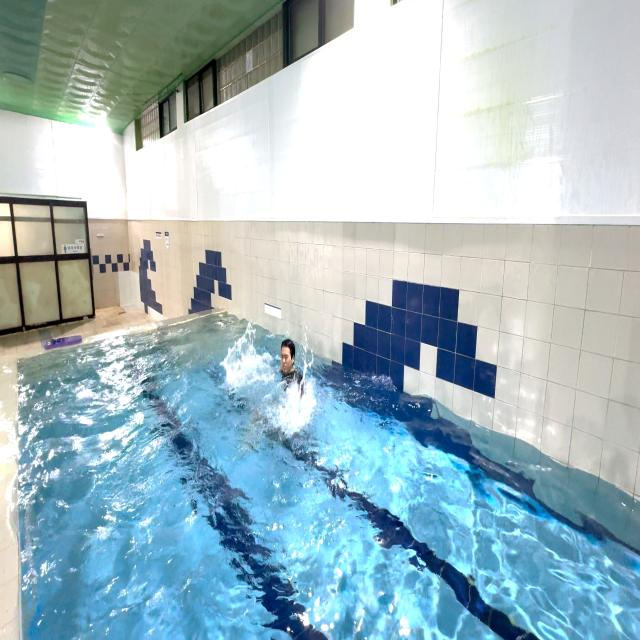Swimming: (221, 328, 321, 438)
